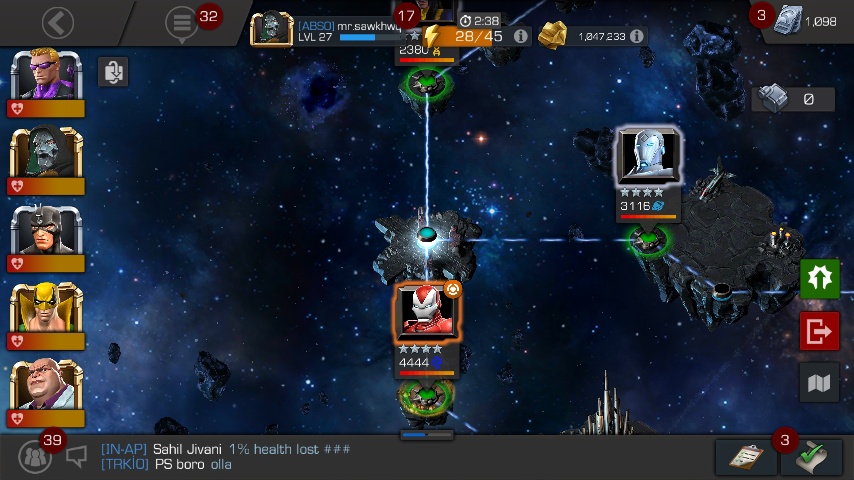green: (417, 73, 437, 92), (639, 231, 659, 248), (418, 388, 437, 403)
